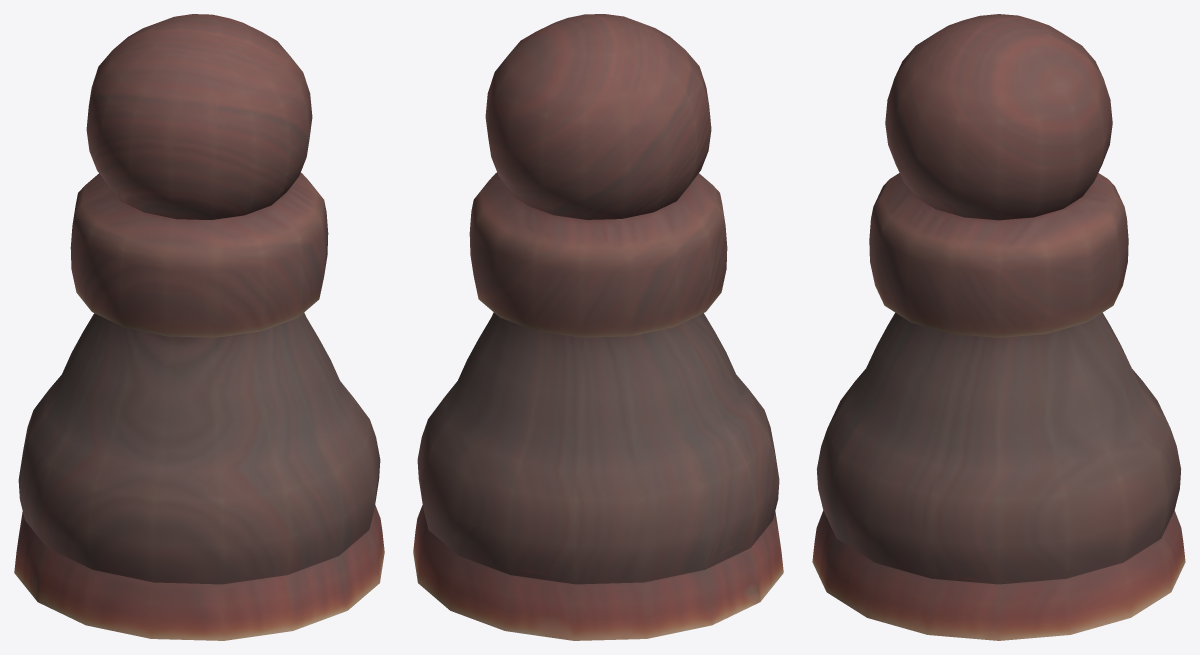
Rendered from Пешка Белый.fbx.
The picture shows the model from 3 angles, left to right: view 1: azimuth 30°, elevation 25°; view 2: azimuth 150°, elevation 25°; view 3: azimuth 270°, elevation 25°; orthographic projection.
Visible parts, largest first — view 1: Пешка белый; view 2: Пешка белый; view 3: Пешка белый.
Boxes of the visible parts, x1,y1,x2,y2 form: Пешка белый: (14, 14, 384, 640); Пешка белый: (413, 14, 783, 640); Пешка белый: (812, 14, 1185, 640).
Size of the model in its own units: 195 by 309 by 195.
Materials: 1 (1 with a texture image).
